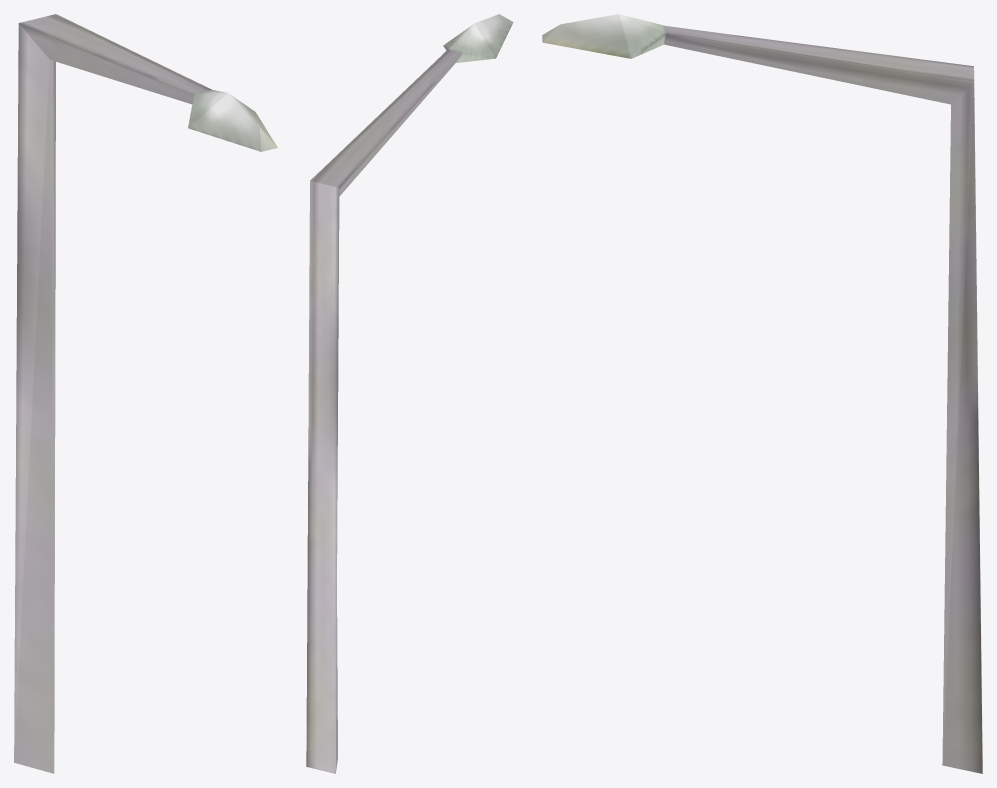
The model's file is lamp06.glb.
3 renders of one model, left to right at view 1: azimuth 30°, elevation 25°; view 2: azimuth 150°, elevation 25°; view 3: azimuth 270°, elevation 25°, orthographic. The views are drawn at different scales.
Visible parts, largest first — view 1: lamp06; view 2: lamp06; view 3: lamp06.
Part boxes in pixels (box(x1,y1,x2,y2)): lamp06: box(14, 14, 277, 773); lamp06: box(306, 14, 513, 773); lamp06: box(542, 14, 982, 773).
Size of the model in its own units: 70.98 by 812 by 431.
1 material, 1 textured.
